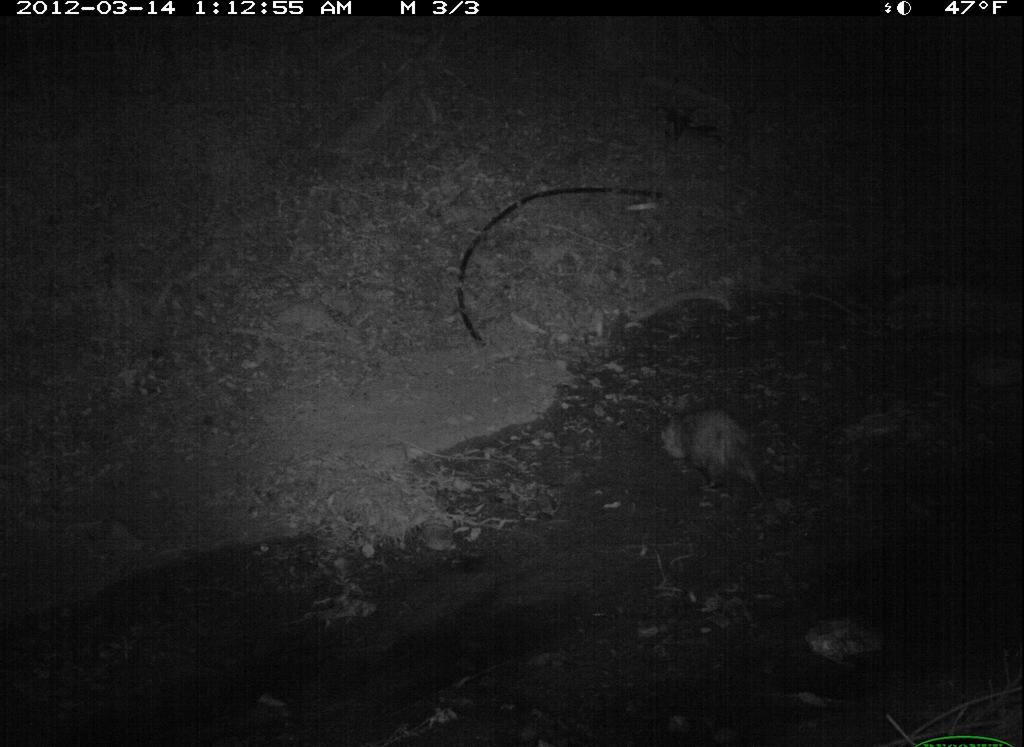opossum: (653, 402, 794, 530)
